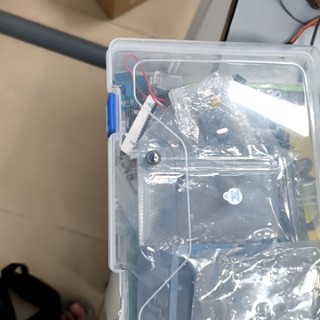ironball: (146, 144, 165, 169)
